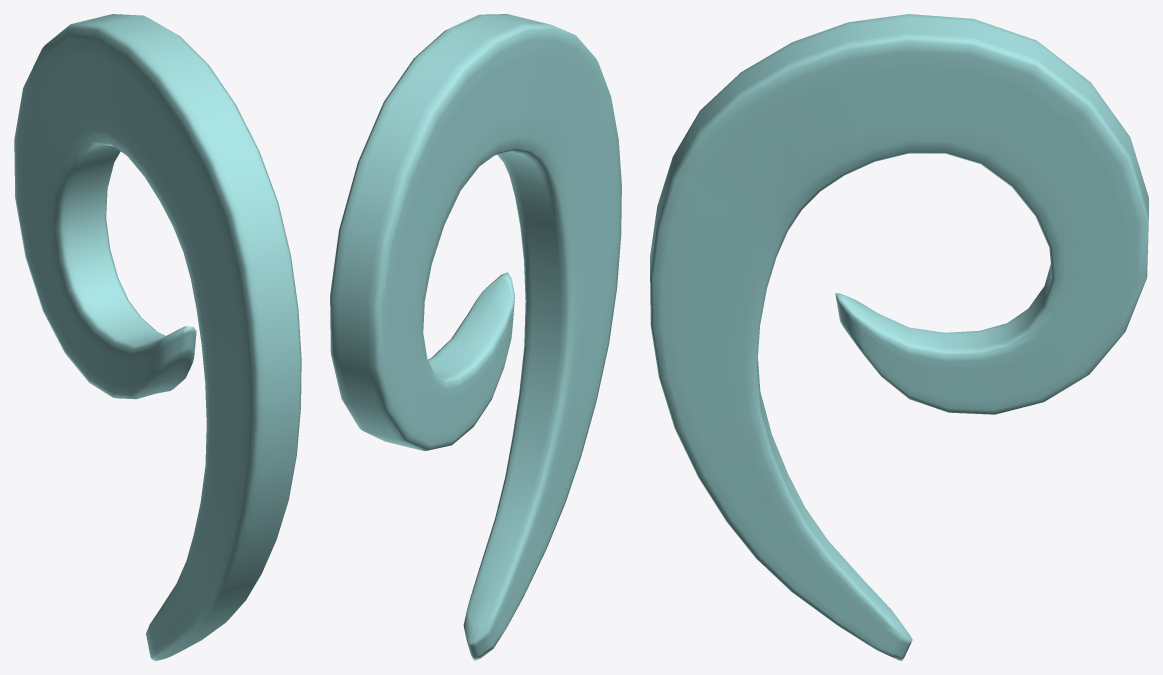
File: RuneStones.fbx
3 renders of one model, left to right at view 1: azimuth 30°, elevation 25°; view 2: azimuth 150°, elevation 25°; view 3: azimuth 270°, elevation 25°, orthographic. The views are drawn at different scales.
Visible parts, largest first — view 1: pCube1; view 2: pCube1; view 3: pCube1.
Boxes of the visible parts, x1,y1,x2,y2 form: pCube1: (14, 14, 301, 660); pCube1: (330, 14, 621, 660); pCube1: (650, 14, 1148, 660).
Size of the model in its own units: 0.2462 by 2.64 by 1.88.
